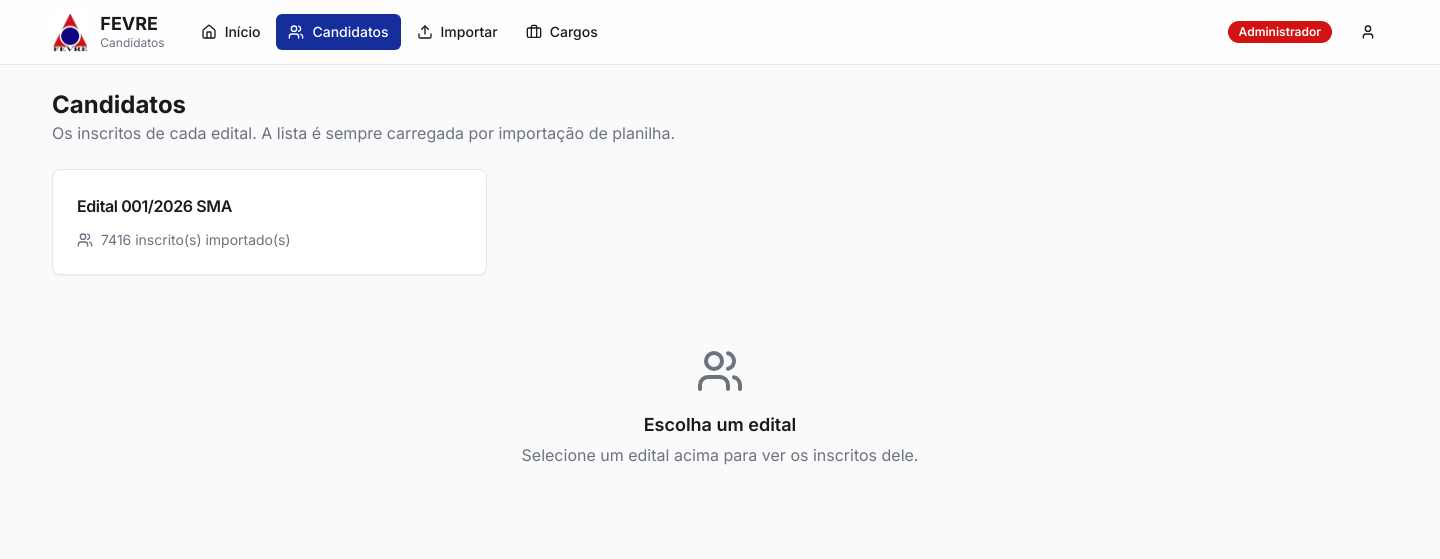
Test: Candidatos (interação) › com o edital escolhido › inscrito sem cargo no catálogo mostra '—' e não quebra a linha
Click the button "Edital 001/2026 SMA 7416 inscrito(s) importado(s)": (154, 206) [52,169,487,275]
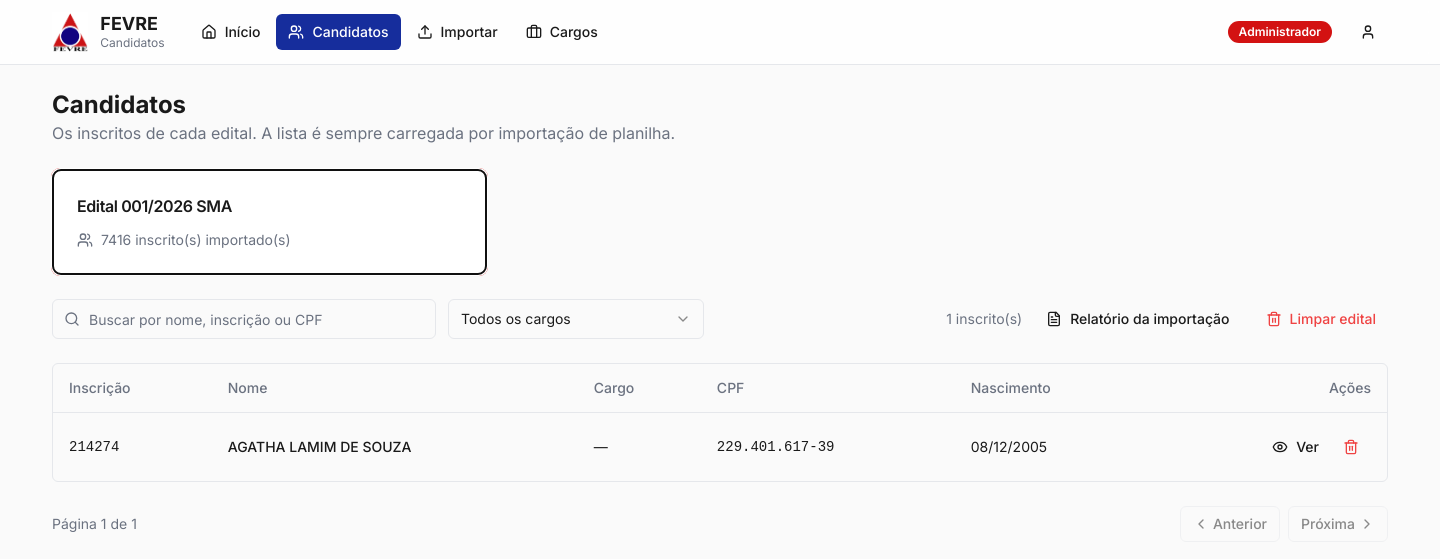
Expected: the text "—" is shown, [578,412,701,480]
